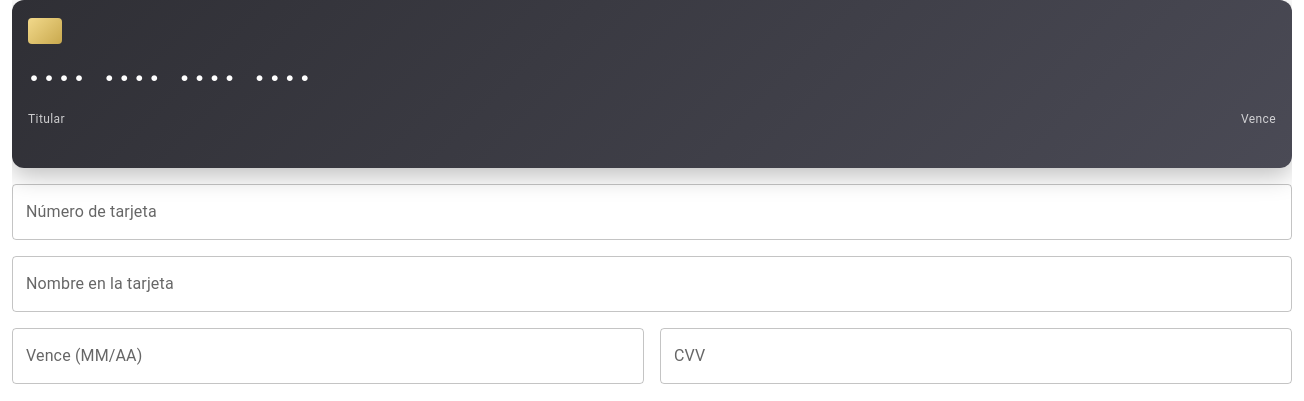
Test: CardForm › la tarjeta dibujada enseña el logo de Mastercard en cuanto se escriben los primeros dígitos
Type "55" into the field labelled "Número de tarjeta" at (652, 212), box [12, 184, 1292, 240]
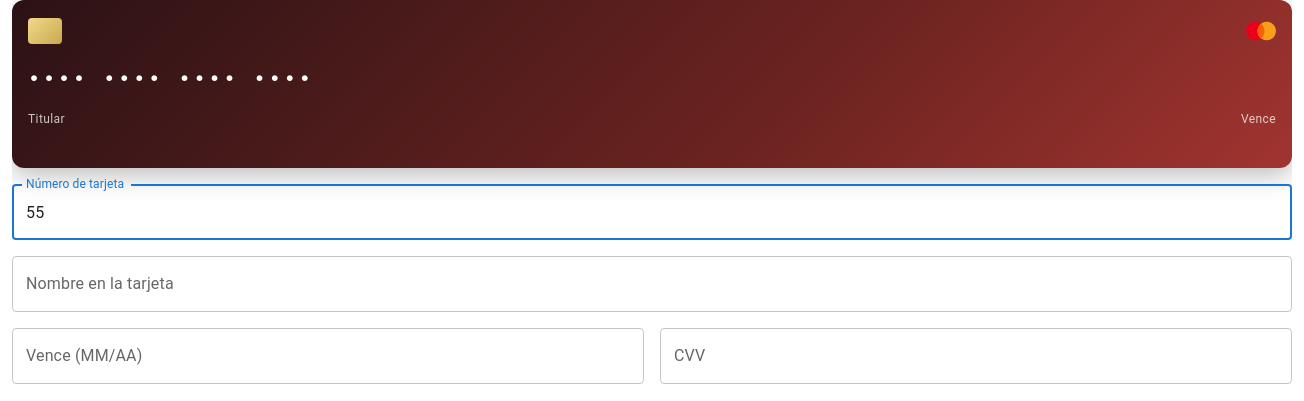
Expected: the picture named "Mastercard" is shown, [1246, 16, 1276, 46]
